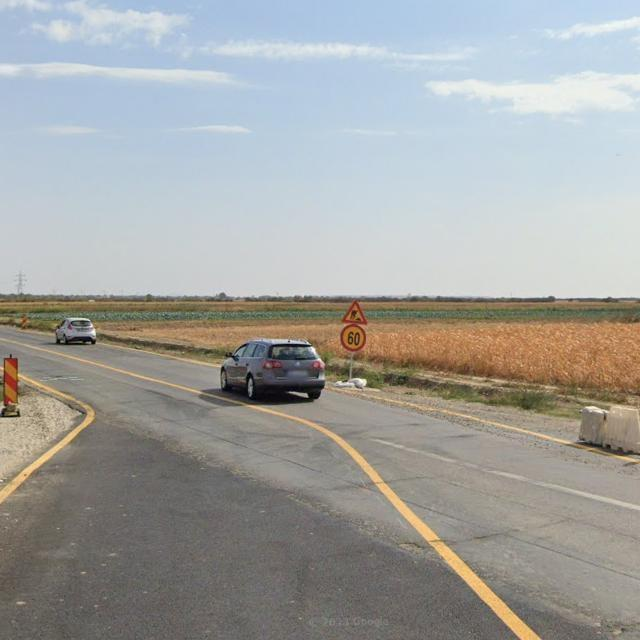forb_speed_over_60: (340, 325, 367, 352)
